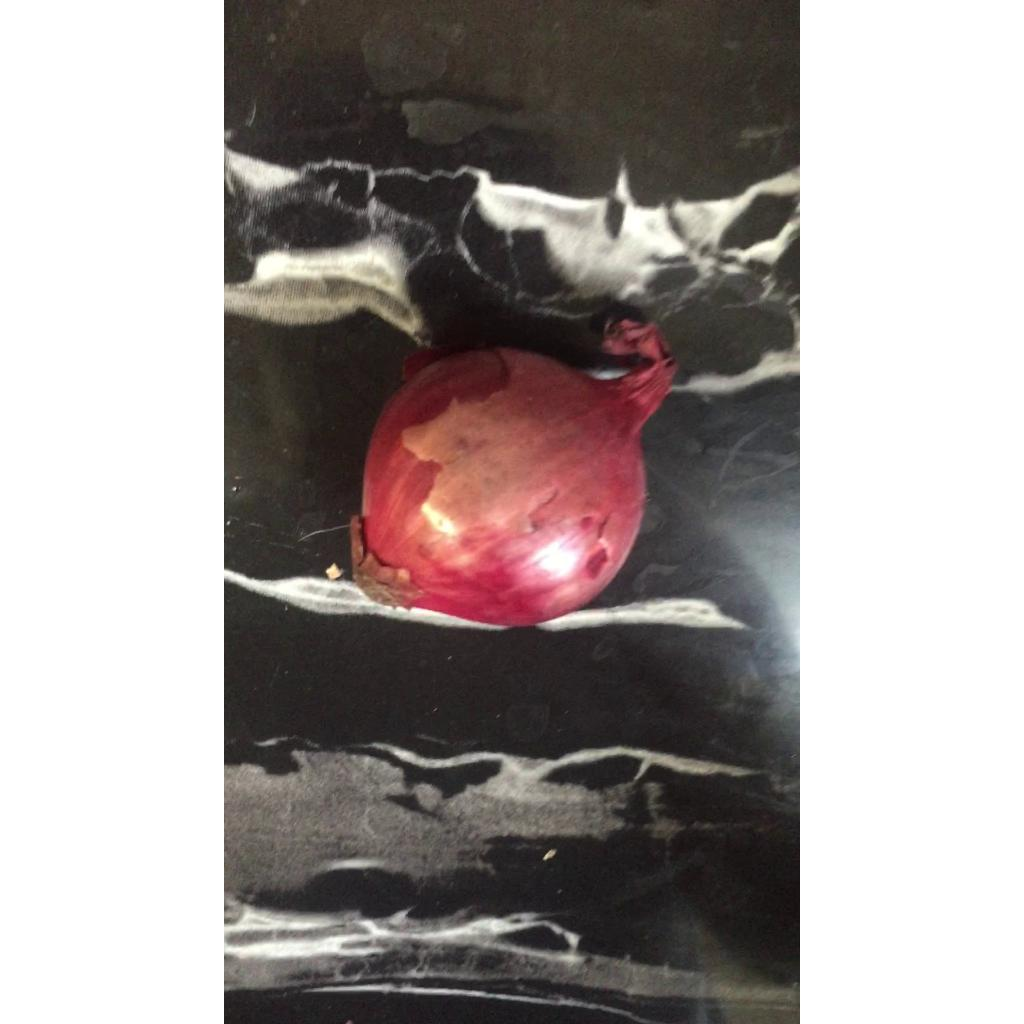Onion: (350, 305, 677, 626)
